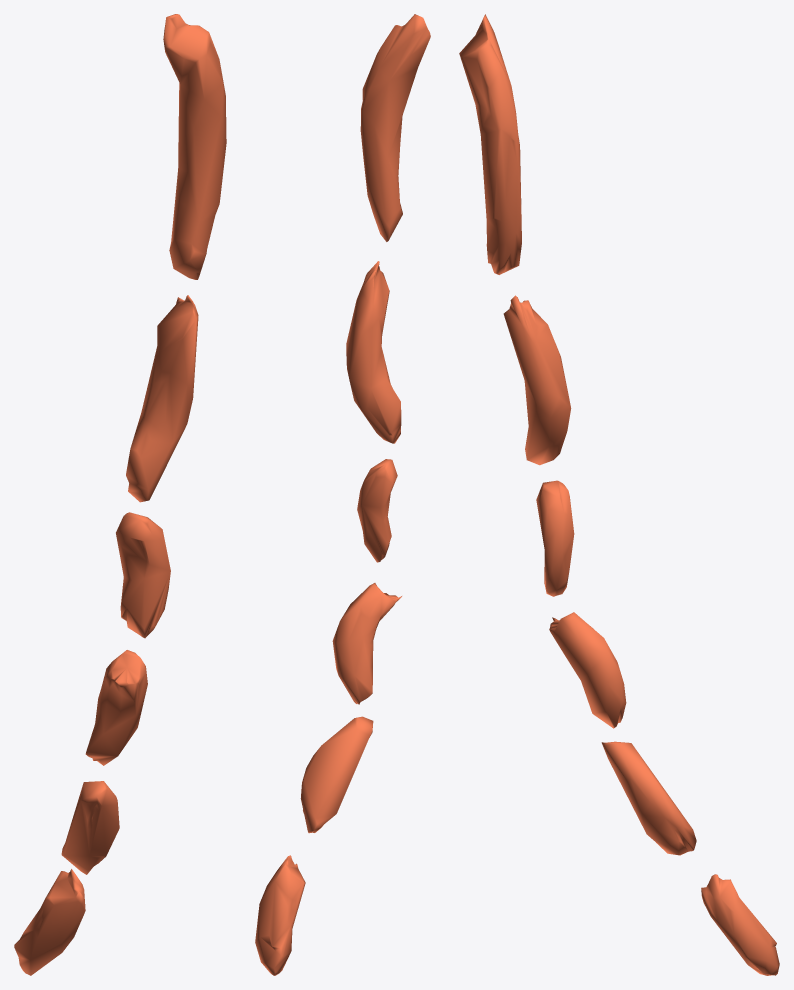
Rendered from Interspinales_colli_left.glb.
3 renders of one model, left to right at view 1: azimuth 30°, elevation 25°; view 2: azimuth 150°, elevation 25°; view 3: azimuth 270°, elevation 25°, orthographic. The views are drawn at different scales.
Parts seen in each view (by area): view 1: Interspinales_colli_muscles.l_Generated_Mesh_From_X3D.448; view 2: Interspinales_colli_muscles.l_Generated_Mesh_From_X3D.448; view 3: Interspinales_colli_muscles.l_Generated_Mesh_From_X3D.448.
Part boxes in pixels (x1,y1,x2,y2): Interspinales_colli_muscles.l_Generated_Mesh_From_X3D.448: (14, 14, 226, 975); Interspinales_colli_muscles.l_Generated_Mesh_From_X3D.448: (255, 14, 430, 975); Interspinales_colli_muscles.l_Generated_Mesh_From_X3D.448: (459, 14, 779, 975).
Bounding box in the file's own units: 0.00691 × 0.0903 × 0.0275.
